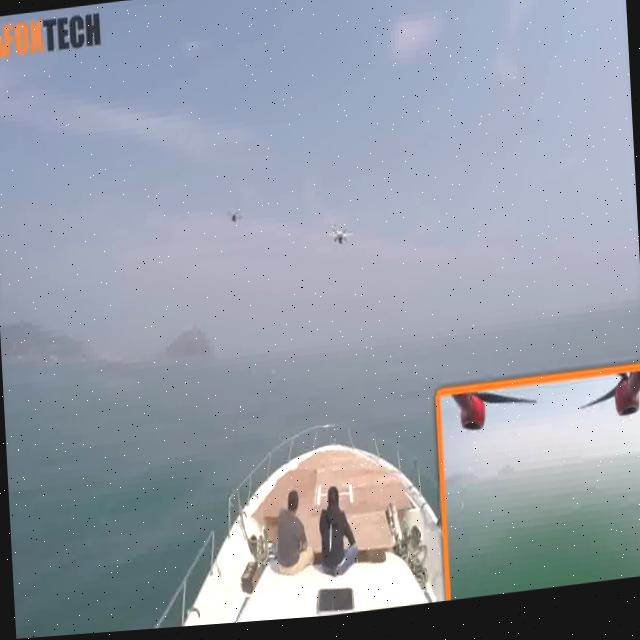drone: (322, 212, 357, 266)
